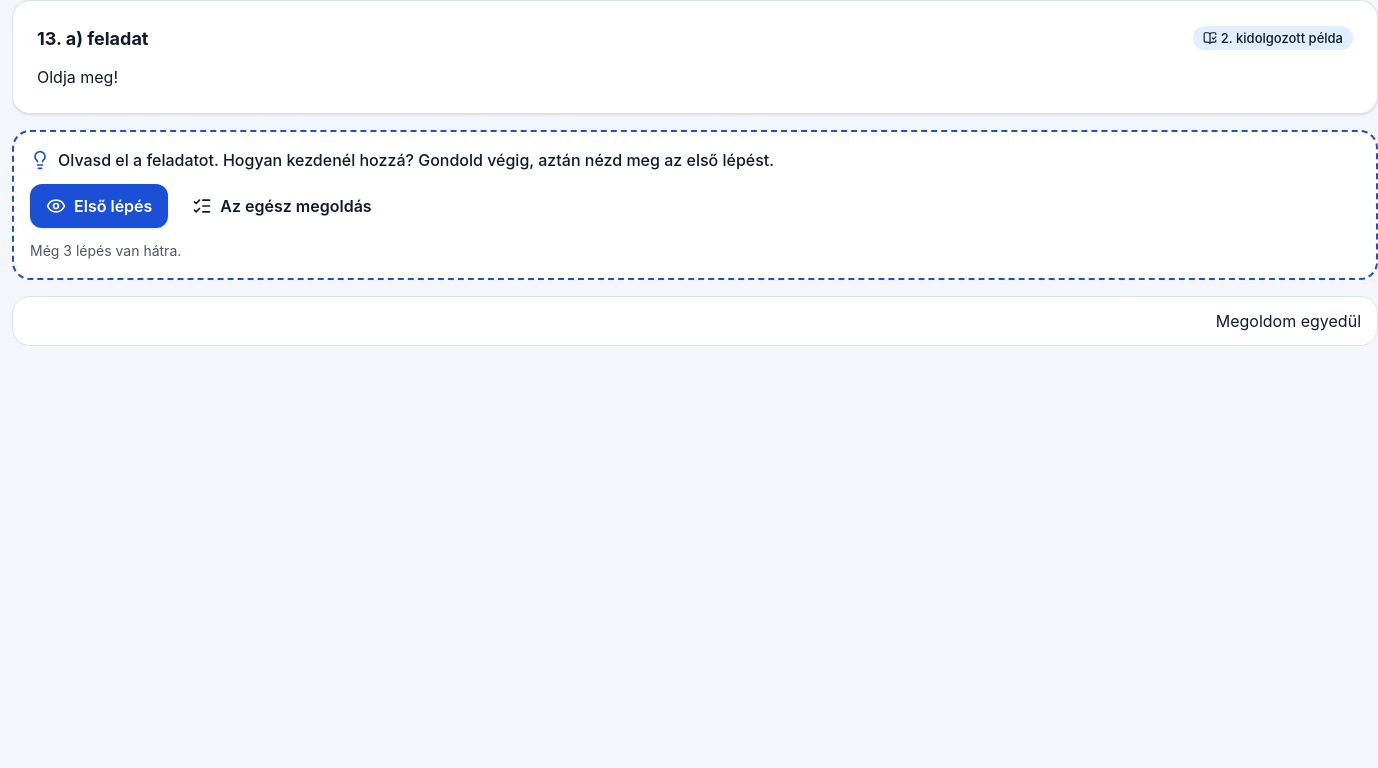
Test: WorkedExample › uncovers the solution one step at a time, asking to think ahead
The width and height of the screenshot is (1378, 768).
Expected: the text "2. kidolgozott példa" is shown, [1193, 26, 1353, 50]
Expected: the text "Szorzás 100-zal." is not shown
Step 1. Click the button "Első lépés" → (99, 206), box [30, 184, 168, 228]
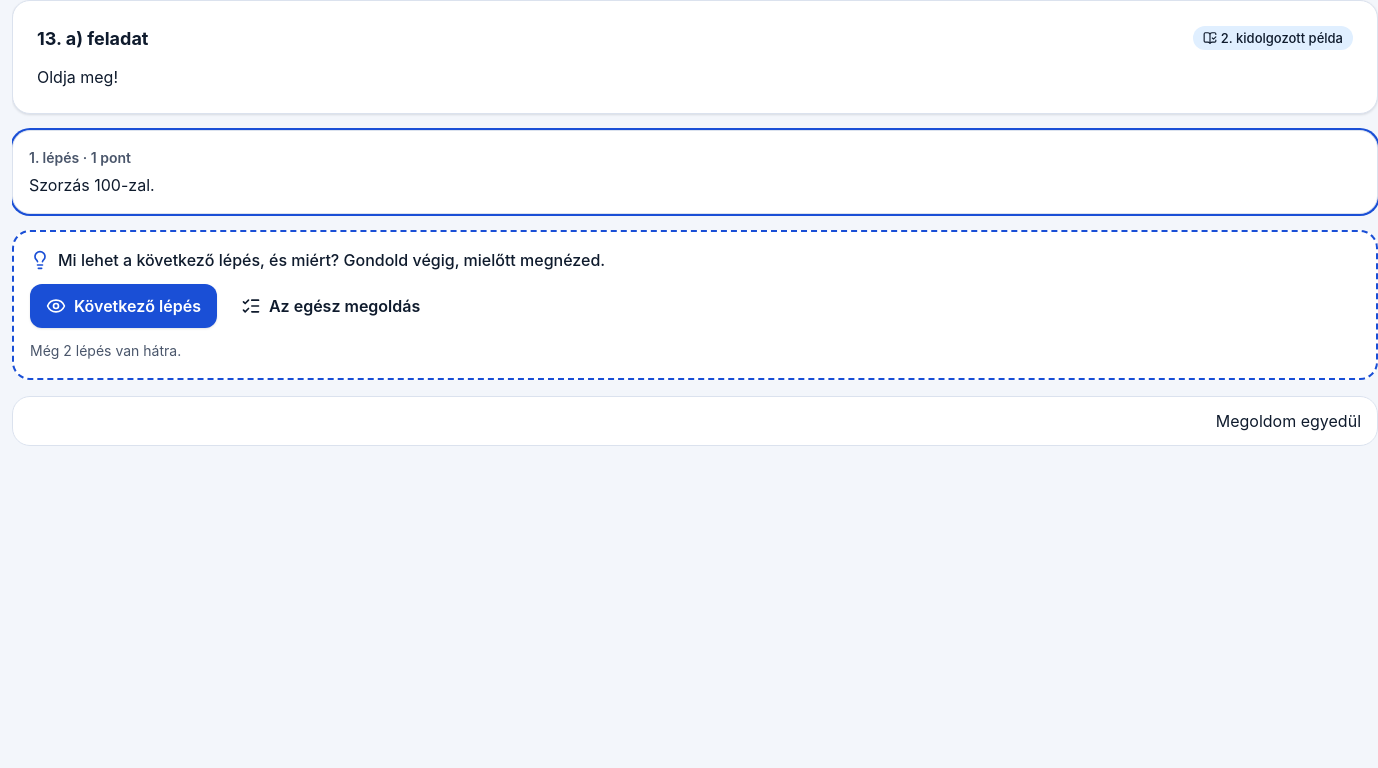
Now the text "Szorzás 100-zal." is shown, box [29, 175, 155, 195]
Now the text "Mi lehet a következő lépés" is shown, box [58, 250, 605, 270]
Now the text "Még 2 lépés van hátra." is shown, box [30, 342, 181, 359]
Step 2. Click the button "Következő lépés" → (123, 306), box [30, 284, 217, 328]
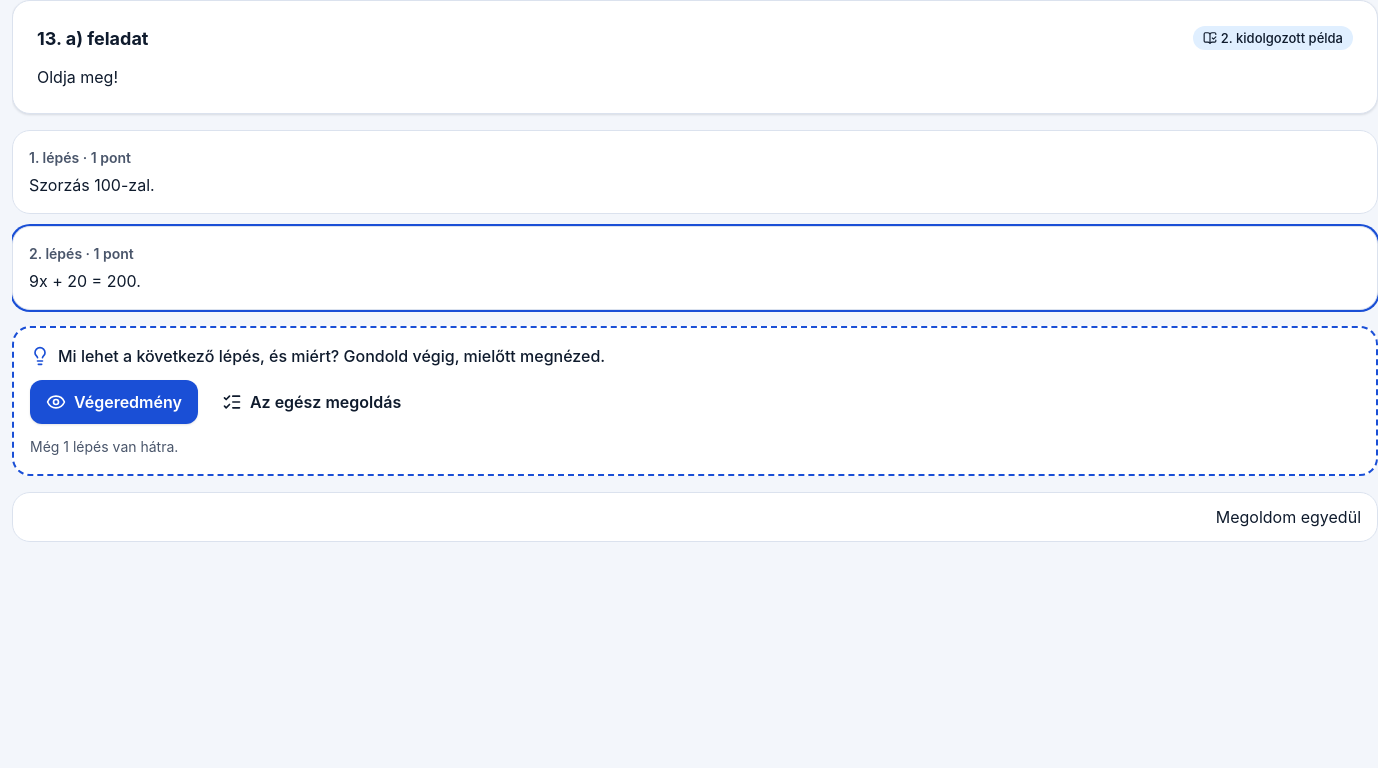
Expected: the text "x = 20" is not shown
Now the text "9x + 20 = 200." is shown, box [29, 271, 141, 291]
Step 3. Click the button "Végeredmény" → (114, 402), box [30, 380, 198, 424]
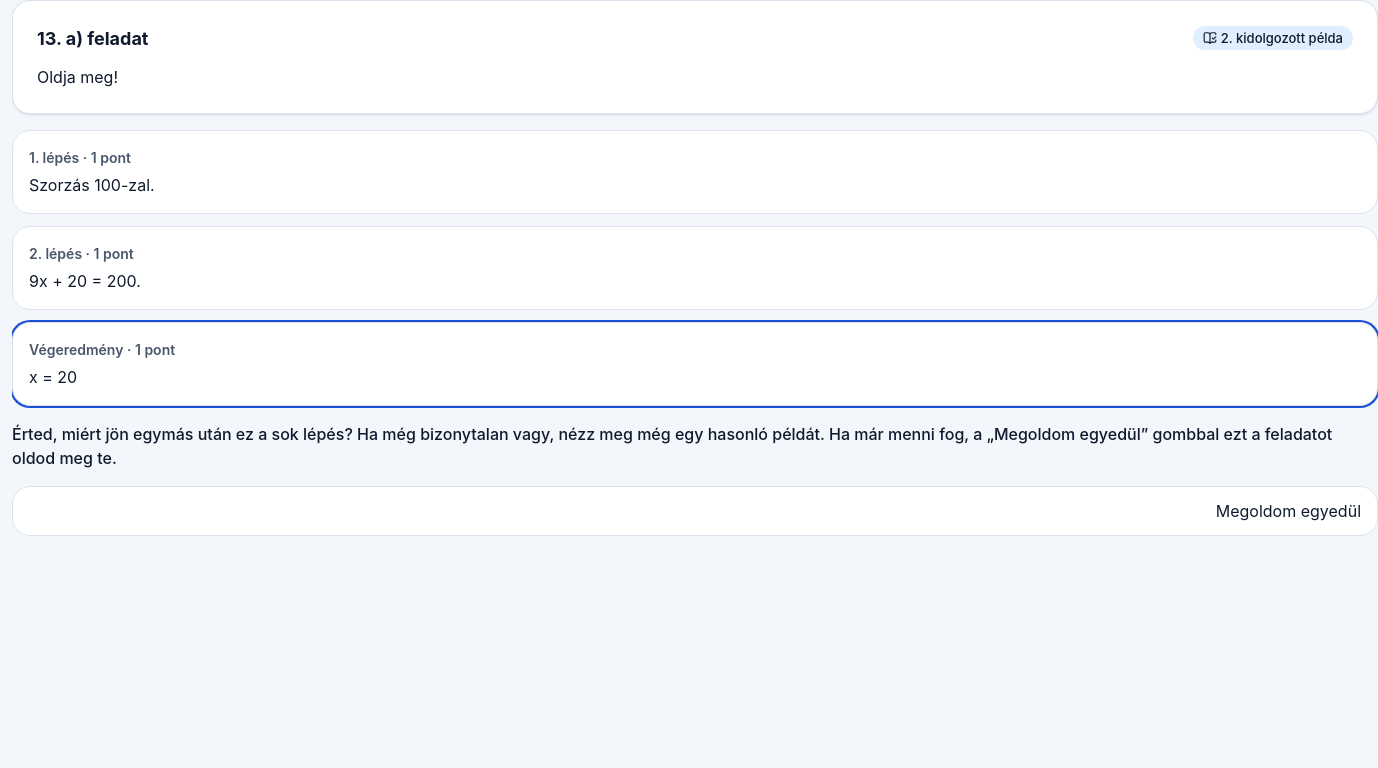
Now the text "x = 20" is shown, box [29, 367, 77, 387]
Now the text "ezt a feladatot oldod meg te" is shown, box [12, 424, 1332, 468]
